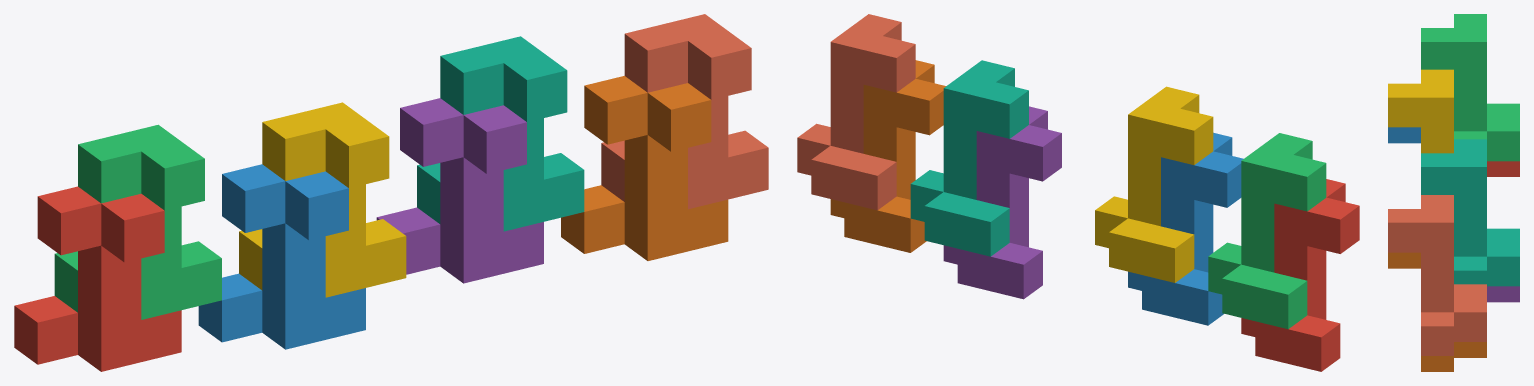
The model's file is tiling.obj.
The picture shows the model from 3 angles, left to right: view 1: azimuth 30°, elevation 25°; view 2: azimuth 150°, elevation 25°; view 3: azimuth 270°, elevation 25°; orthographic projection. The views are drawn at different scales.
Parts seen in each view (by area): view 1: copy_1_domain_1, copy_1_domain_6, copy_1_domain_2, copy_1_domain_5, copy_1_domain_4, copy_1_domain_7, copy_1_domain_8, copy_1_domain_3; view 2: copy_1_domain_3, copy_1_domain_7, copy_1_domain_8, copy_1_domain_4, copy_1_domain_1, copy_1_domain_5, copy_1_domain_6, copy_1_domain_2; view 3: copy_1_domain_8, copy_1_domain_7, copy_1_domain_3, copy_1_domain_4, copy_1_domain_6, copy_1_domain_2, copy_1_domain_5, copy_1_domain_1.
Boxes of the visible parts, box(x1,y1,x2,y2) form: copy_1_domain_1: box(14, 186, 181, 371); copy_1_domain_6: box(561, 76, 728, 260); copy_1_domain_2: box(198, 164, 365, 349); copy_1_domain_5: box(376, 98, 543, 283); copy_1_domain_4: box(239, 102, 406, 297); copy_1_domain_7: box(417, 36, 584, 231); copy_1_domain_8: box(601, 14, 768, 209); copy_1_domain_3: box(54, 124, 221, 319); copy_1_domain_3: box(1208, 133, 1326, 329); copy_1_domain_7: box(910, 60, 1028, 256); copy_1_domain_8: box(797, 14, 915, 210); copy_1_domain_4: box(1095, 86, 1213, 282); copy_1_domain_1: box(1241, 179, 1359, 371); copy_1_domain_5: box(943, 106, 1061, 299); copy_1_domain_6: box(830, 60, 945, 252); copy_1_domain_2: box(1128, 132, 1243, 325); copy_1_domain_8: box(1388, 195, 1486, 355); copy_1_domain_7: box(1421, 139, 1519, 286); copy_1_domain_3: box(1421, 14, 1519, 161); copy_1_domain_4: box(1388, 69, 1453, 153); copy_1_domain_6: box(1388, 252, 1486, 371); copy_1_domain_2: box(1388, 127, 1420, 143); copy_1_domain_5: box(1487, 286, 1519, 302); copy_1_domain_1: box(1487, 161, 1519, 176).
Bounding box in the file's own units: 17 × 5 × 4.
